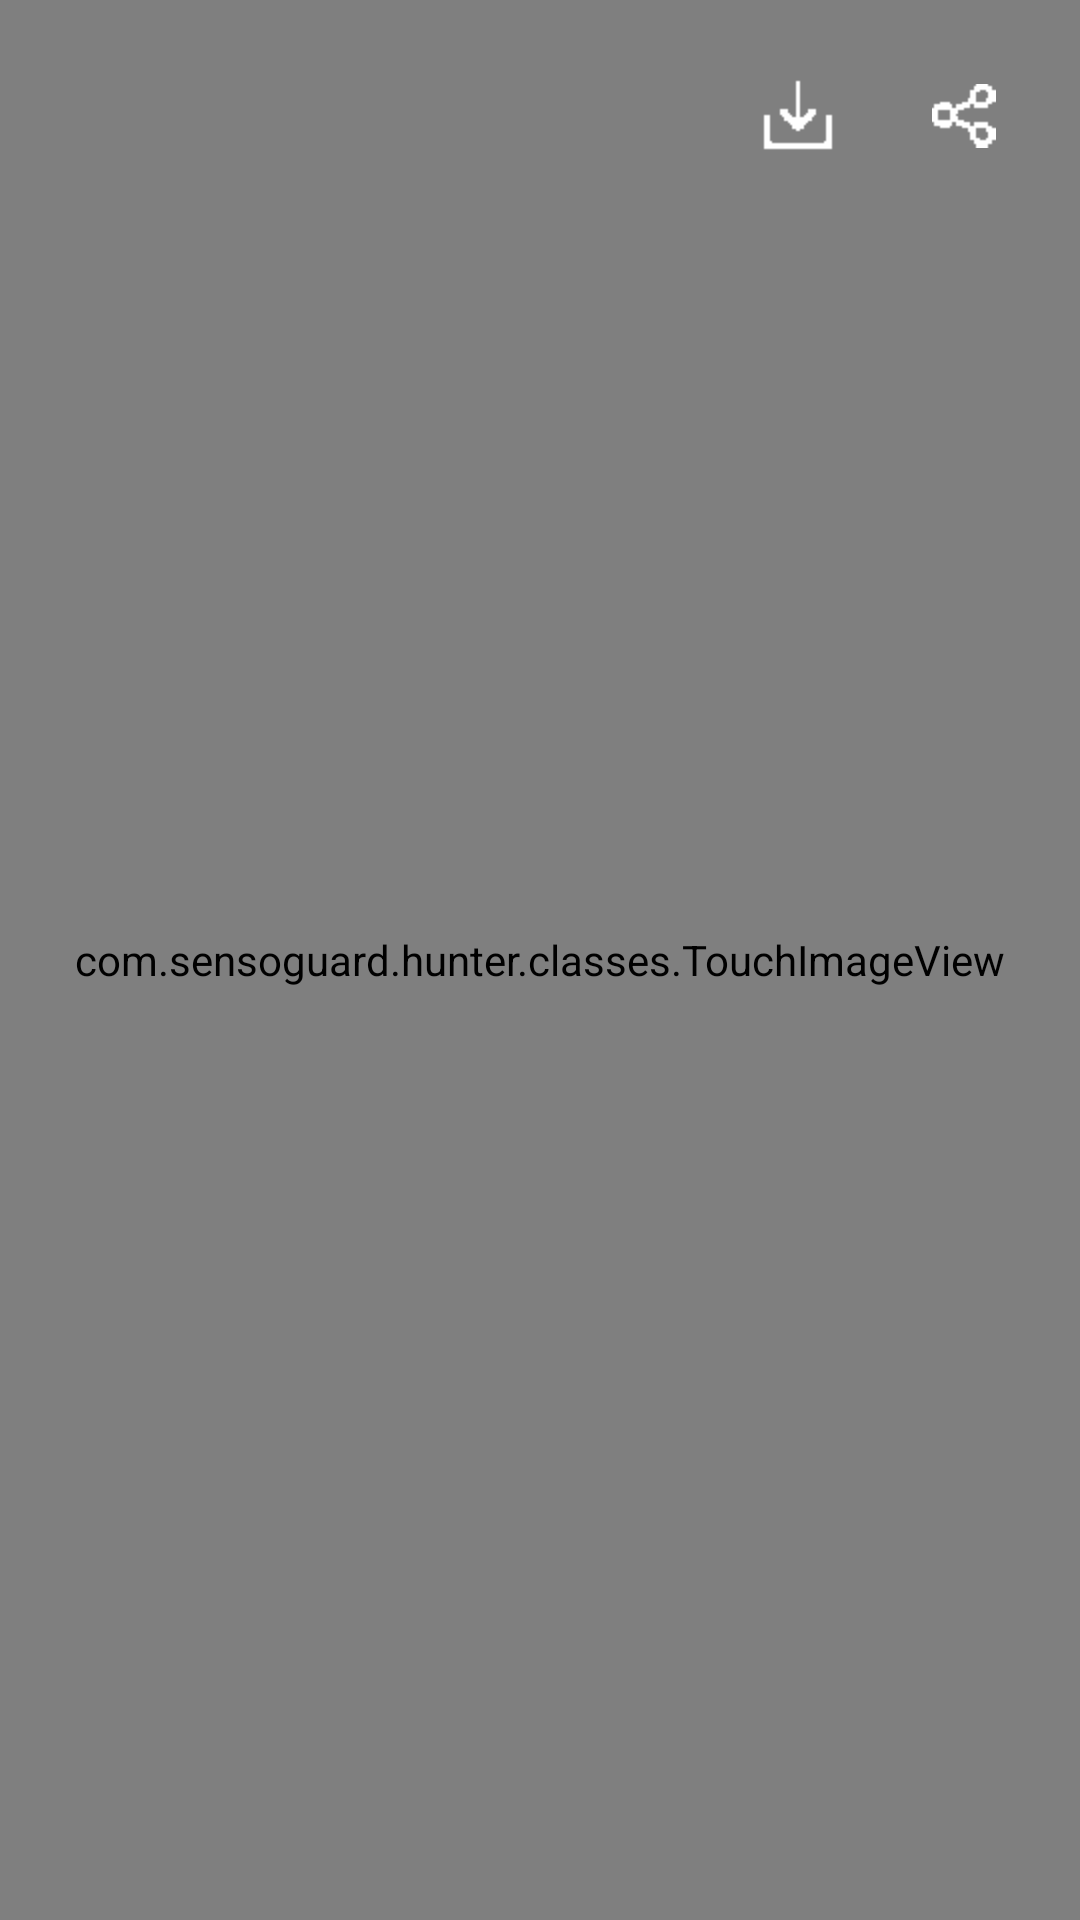

Icons on this 1080 × 1920 Android screen, each with its box as (x1, y1, x2, y2):
save: (763, 80, 833, 150)
share: (932, 84, 996, 148)
